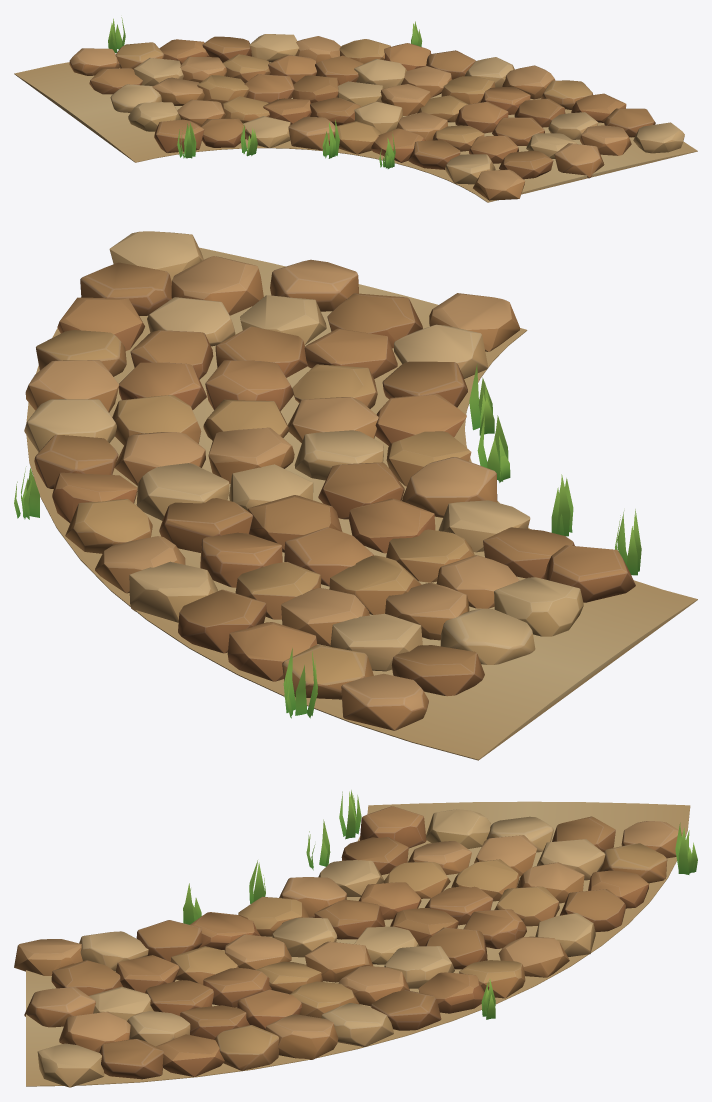
Rendered from path_sandy_turn.glb.
The picture shows the model from 3 angles, top to bottom: view 1: azimuth 30°, elevation 25°; view 2: azimuth 150°, elevation 25°; view 3: azimuth 270°, elevation 25°; orthographic projection. The views are drawn at different scales.
Parts seen in each view (by area): view 1: path_sandy_turn; view 2: path_sandy_turn; view 3: path_sandy_turn.
Part boxes in pixels (x1,y1,x2,y2): path_sandy_turn: [14, 17, 697, 202]; path_sandy_turn: [14, 231, 697, 760]; path_sandy_turn: [14, 790, 697, 1087].
Size of the model in its own units: 1.99 by 0.1646 by 2.04.
